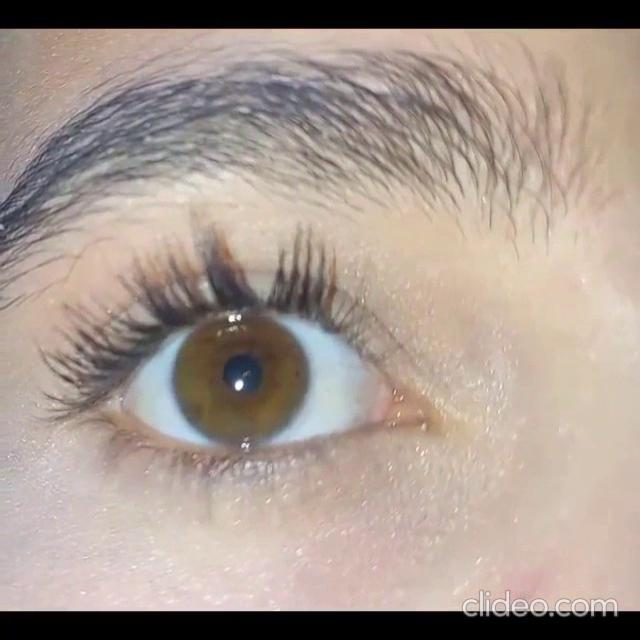iris: (174, 313, 309, 443)
pupille: (224, 354, 262, 393)
